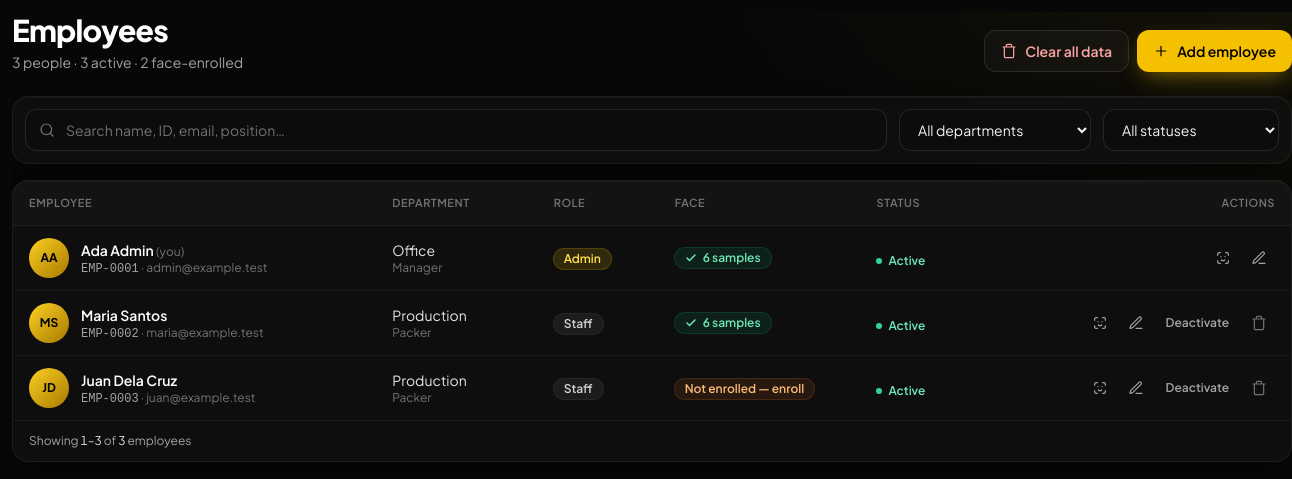
it: Employees page › filters with the smart search
expect the text "Maria Santos" is shown: met, box left=81, top=306, right=167, bottom=324
Type "juan" into the field with placeholder "Search name, ID, email, position…".
click(456, 130); type("juan")  # box left=25, top=109, right=887, bottom=151
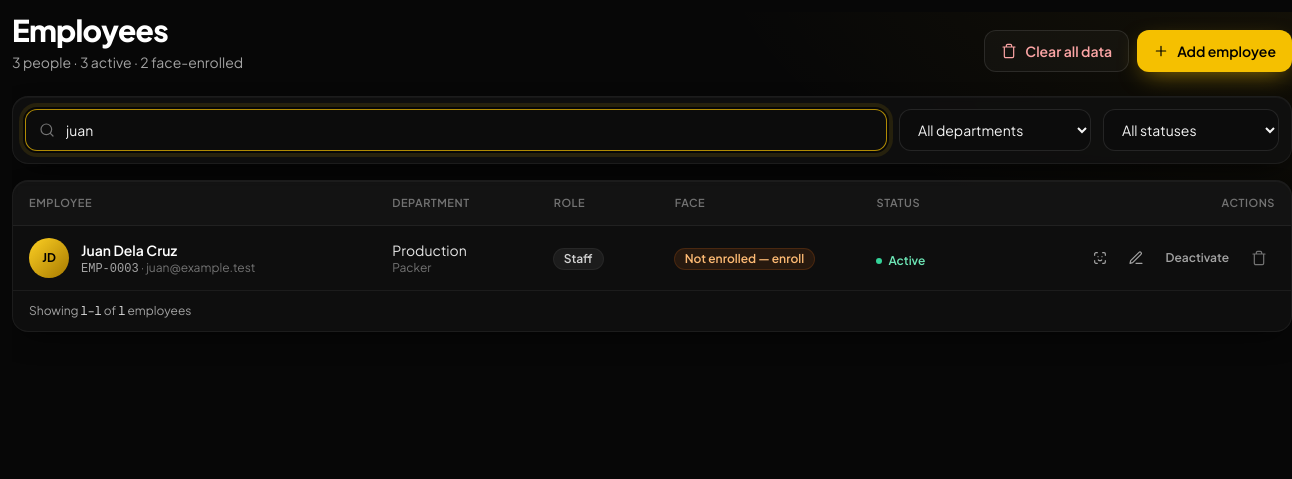
expect the text "Juan Dela Cruz" is shown: met, box left=81, top=240, right=177, bottom=258
expect the text "Maria Santos" is gone: met
